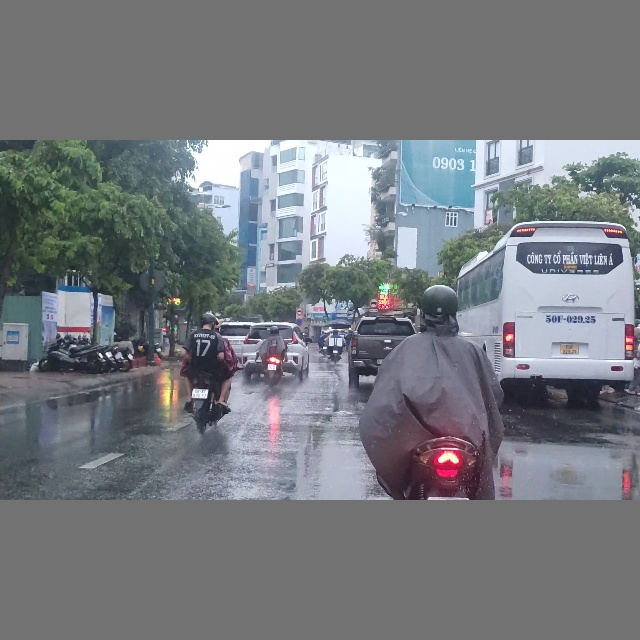P.106a*Xe tai: (369, 298, 379, 308), (296, 307, 303, 315)
P.131a: (295, 318, 303, 326)
